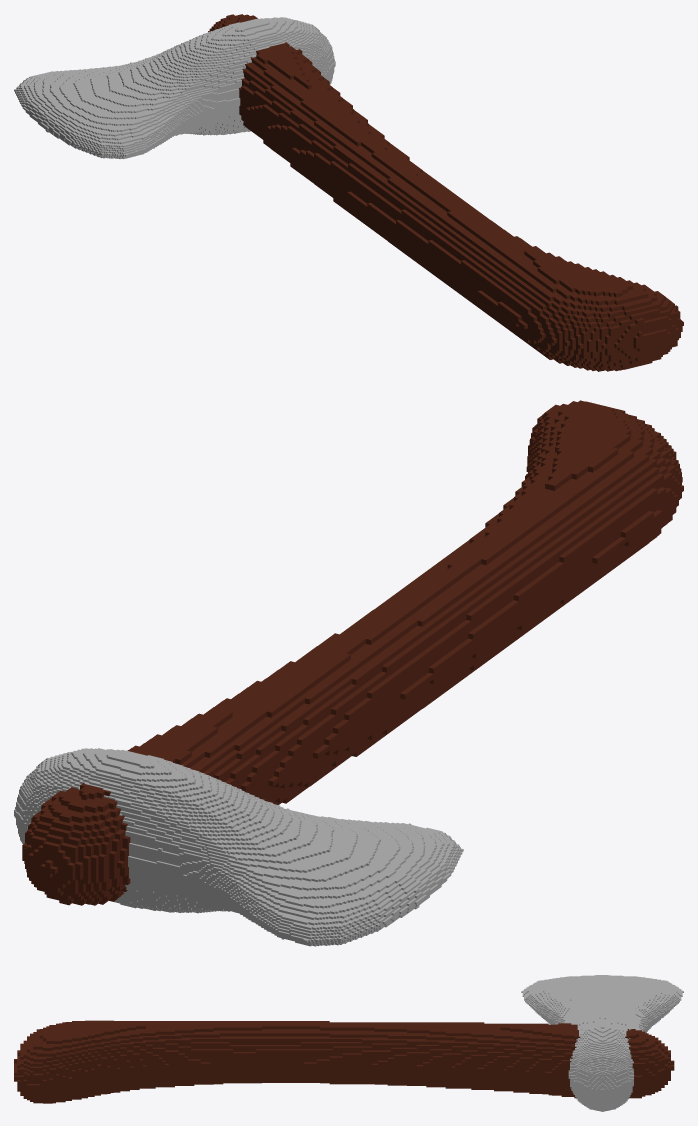
Rendered from axe.fbx.
3 views of the same model, one above another, from view 1: azimuth 30°, elevation 25°; view 2: azimuth 150°, elevation 25°; view 3: azimuth 270°, elevation 25° (orthographic). The views are drawn at different scales.
Parts seen in each view (by area): view 1: Cube, Cube.001; view 2: Cube, Cube.001; view 3: Cube, Cube.001.
Part boxes in pixels (x1,y1,x2,y2): Cube: (208, 14, 683, 371); Cube.001: (14, 17, 335, 159); Cube: (22, 400, 683, 905); Cube.001: (14, 748, 463, 946); Cube: (14, 1020, 674, 1103); Cube.001: (521, 975, 683, 1111).
Size of the model in its own units: 61.7 by 20.17 by 157.
